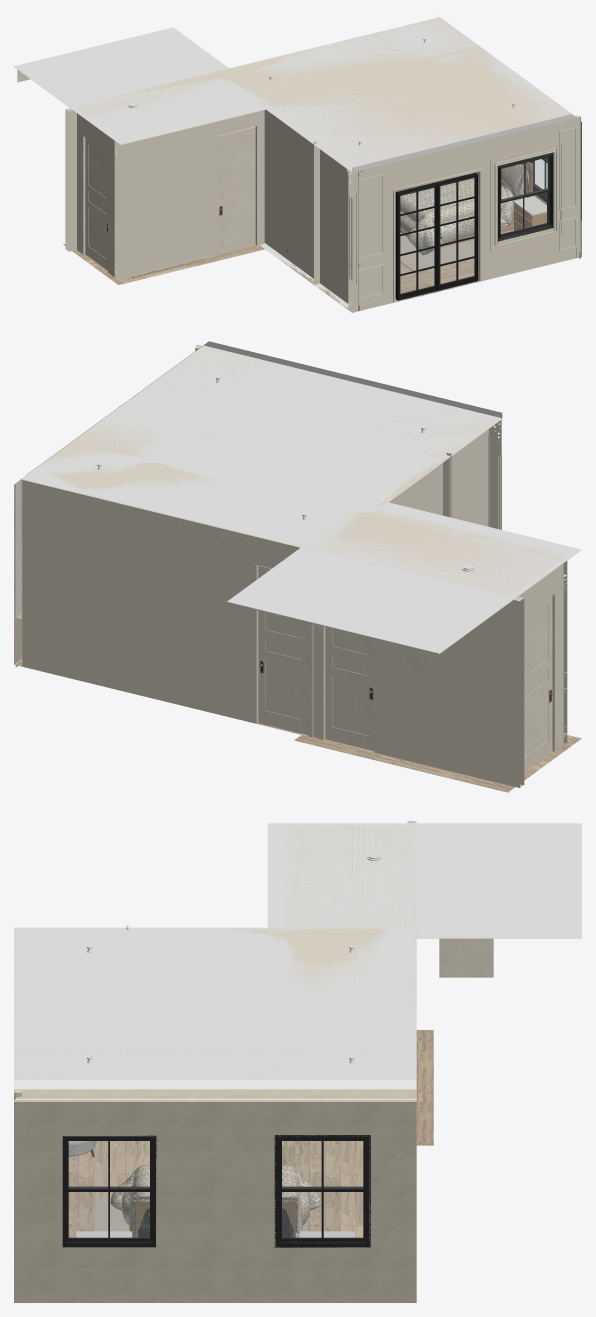
Rendered from primary-bedroom-c18fc8c8f723.glb.
3 views of the same model, one above another, from view 1: azimuth 30°, elevation 25°; view 2: azimuth 150°, elevation 25°; view 3: azimuth 270°, elevation 25° (orthographic). The views are drawn at different scales.
Parts seen in each view (by area): view 1: primary-bedroom-e8793759323e04f0, primary-bedroom-9d91b47435c6fb33, primary-bedroom-b0ade14315e4f1c3, primary-bedroom-look-9ecc0d558be1c706, primary-bedroom-look-9d91b47435c6fb33, primary-bedroom-fc6585fecfaf7ec3, primary-bedroom-18f70a4a9eda5dac, primary-bedroom-42fce09358828e49, primary-bedroom-d70d42a253f78e60, primary-bedroom-e1735639a83d20d7, primary-bedroom-c791a0f218fead78, primary-bedroom-6c54e09c161b5848 (+19 smaller); view 2: primary-bedroom-21ac2ed1b4475155, primary-bedroom-9d91b47435c6fb33, primary-bedroom-e8793759323e04f0, primary-bedroom-look-9d91b47435c6fb33, primary-bedroom-b7a870a0f6b43c8c, primary-bedroom-6d601da8073fdc0e, primary-bedroom-6c54e09c161b5848, primary-bedroom-c791a0f218fead78, primary-bedroom-look-21ac2ed1b4475155, primary-bedroom-look-2575515a05775d9e, primary-bedroom-e48b5483df8cacdb, primary-bedroom-fc6585fecfaf7ec3 (+6 smaller); view 3: primary-bedroom-9d91b47435c6fb33, primary-bedroom-adb6f49a6d2cbec3, primary-bedroom-look-9d91b47435c6fb33, primary-bedroom-16d9002bc6318568, primary-bedroom-e8793759323e04f0, primary-bedroom-91f952a1d198b4a4, primary-bedroom-2575515a05775d9e, primary-bedroom-f5a37a5545b9d676, primary-bedroom-791abe15be22adf2, primary-bedroom-look-95b94d4b81cfb474, primary-bedroom-look-2575515a05775d9e, primary-bedroom-b29583548b72a1ea (+4 smaller).
Boxes of the visible parts, x1,y1,x2,y2 form: primary-bedroom-e8793759323e04f0: (74,15,575,171); primary-bedroom-9d91b47435c6fb33: (74,17,575,172); primary-bedroom-b0ade14315e4f1c3: (348,116,581,312); primary-bedroom-look-9ecc0d558be1c706: (124,111,259,276); primary-bedroom-look-9d91b47435c6fb33: (14,27,265,144); primary-bedroom-fc6585fecfaf7ec3: (260,109,319,284); primary-bedroom-18f70a4a9eda5dac: (218,126,255,253); primary-bedroom-42fce09358828e49: (438,174,477,290); primary-bedroom-d70d42a253f78e60: (398,184,437,300); primary-bedroom-e1735639a83d20d7: (498,152,553,241); primary-bedroom-c791a0f218fead78: (314,144,358,310); primary-bedroom-6c54e09c161b5848: (82,135,108,272); primary-bedroom-21ac2ed1b4475155: (22,480,508,785); primary-bedroom-9d91b47435c6fb33: (21,345,567,597); primary-bedroom-e8793759323e04f0: (25,341,566,597); primary-bedroom-look-9d91b47435c6fb33: (227,502,580,654); primary-bedroom-b7a870a0f6b43c8c: (258,565,307,734); primary-bedroom-6d601da8073fdc0e: (325,627,374,750); primary-bedroom-6c54e09c161b5848: (524,592,555,771); primary-bedroom-c791a0f218fead78: (443,426,491,526); primary-bedroom-look-21ac2ed1b4475155: (509,596,524,787); primary-bedroom-look-2575515a05775d9e: (294,735,581,792); primary-bedroom-e48b5483df8cacdb: (518,563,563,748); primary-bedroom-fc6585fecfaf7ec3: (388,457,449,515); primary-bedroom-9d91b47435c6fb33: (14,825,416,1089); primary-bedroom-adb6f49a6d2cbec3: (14,1100,416,1247); primary-bedroom-look-9d91b47435c6fb33: (267,823,581,938); primary-bedroom-16d9002bc6318568: (15,1248,416,1300); primary-bedroom-e8793759323e04f0: (14,825,416,1088); primary-bedroom-91f952a1d198b4a4: (274,1135,370,1247); primary-bedroom-2575515a05775d9e: (14,1141,416,1302); primary-bedroom-f5a37a5545b9d676: (62,1135,157,1247); primary-bedroom-791abe15be22adf2: (14,1089,416,1098); primary-bedroom-look-95b94d4b81cfb474: (439,938,493,977); primary-bedroom-look-2575515a05775d9e: (416,1030,433,1145); primary-bedroom-b29583548b72a1ea: (125,1165,304,1237).
Bounding box in the file's own units: 8.2 × 3.04 × 7.21.
Materials: 45 (12 with a texture image).
